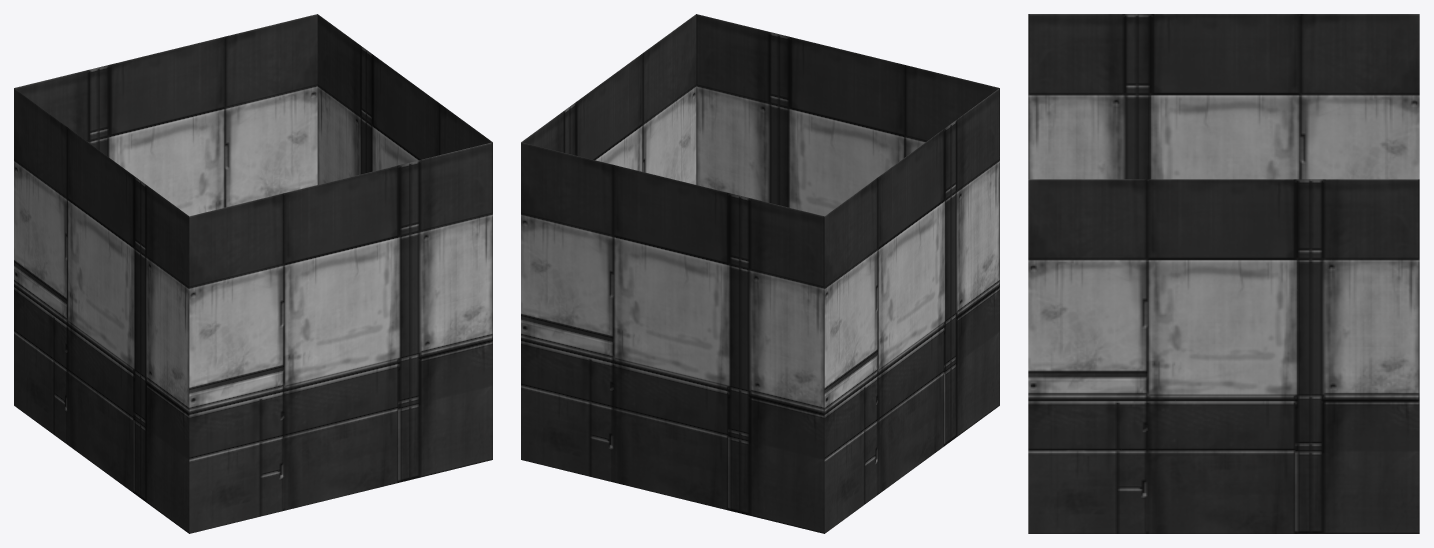
Rendered from ElevatorMid1.fbx.
3 views of the same model, side by side, from view 1: azimuth 30°, elevation 25°; view 2: azimuth 150°, elevation 25°; view 3: azimuth 270°, elevation 25° (orthographic). The views are drawn at different scales.
Parts seen in each view (by area): view 1: ElevatorMid1; view 2: ElevatorMid1; view 3: ElevatorMid1.
Part boxes in pixels (x1,y1,x2,y2): ElevatorMid1: (14, 14, 492, 533); ElevatorMid1: (521, 14, 999, 533); ElevatorMid1: (1028, 14, 1419, 533).
Bounding box in the file's own units: 5 × 5 × 5.
